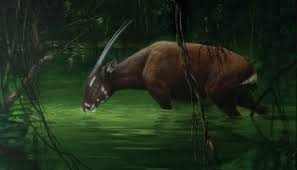sao_la: (81, 28, 244, 114)
